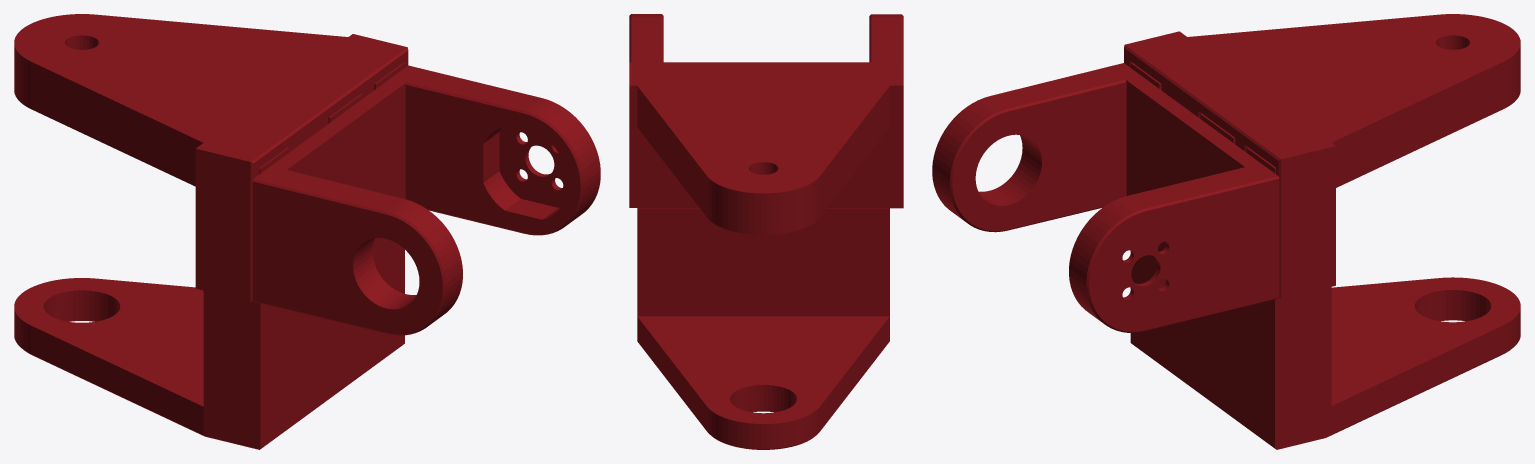
File: palm_link21.dae
3 renders of one model, left to right at view 1: azimuth 30°, elevation 25°; view 2: azimuth 150°, elevation 25°; view 3: azimuth 270°, elevation 25°, orthographic. The views are drawn at different scales.
Parts seen in each view (by area): view 1: palm_link21.001; view 2: palm_link21.001; view 3: palm_link21.001.
Boxes of the visible parts, x1,y1,x2,y2 form: palm_link21.001: (14, 14, 600, 449); palm_link21.001: (629, 14, 903, 449); palm_link21.001: (932, 14, 1520, 449).
Bounding box in the file's own units: 67.67 × 87.56 × 48.25.
